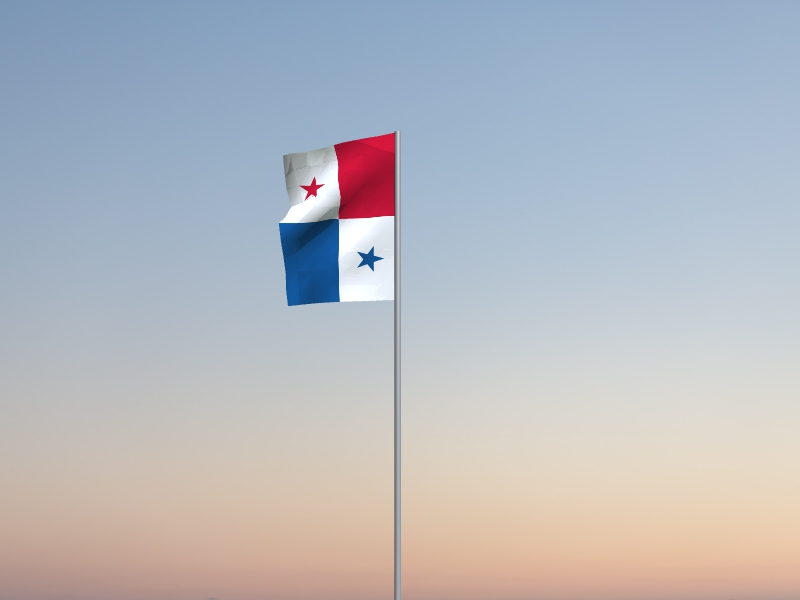pa: (279, 134, 395, 307)
